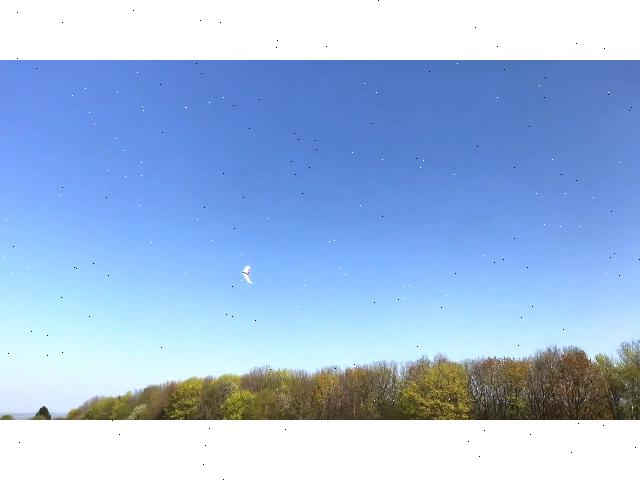Anti-Drone: (225, 253, 261, 286)
